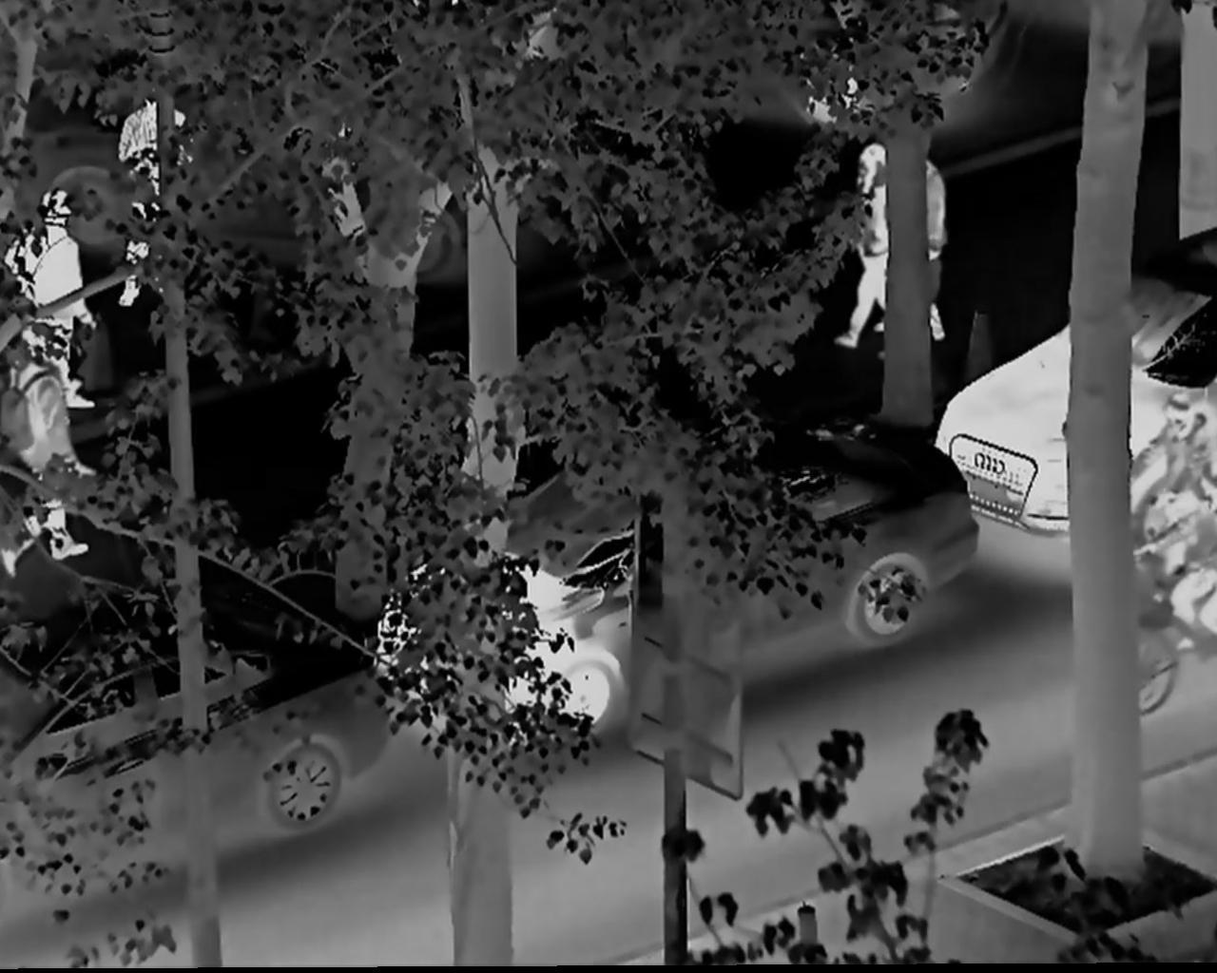person: (10, 330, 88, 582), (117, 93, 199, 313), (23, 190, 103, 408), (882, 147, 950, 340), (837, 134, 890, 351)
